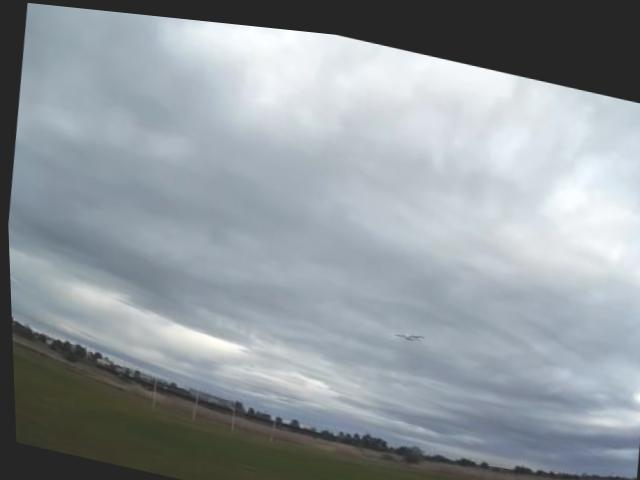uav: (390, 318, 427, 337)
